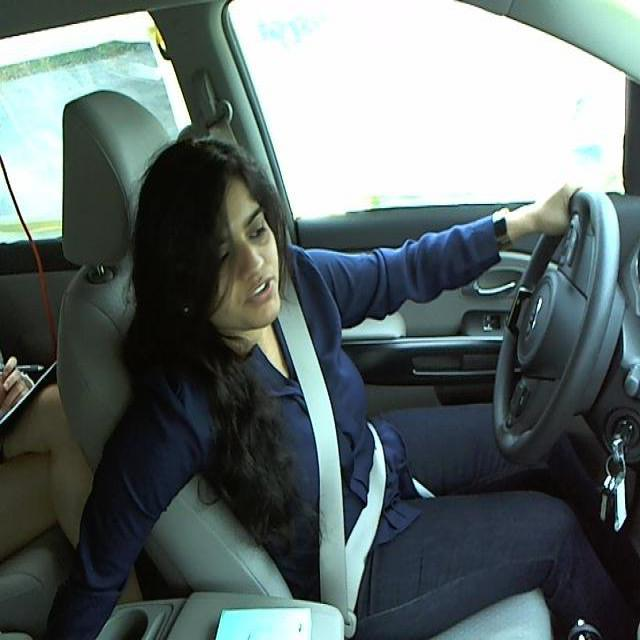seatbelt: (270, 314, 381, 610)
